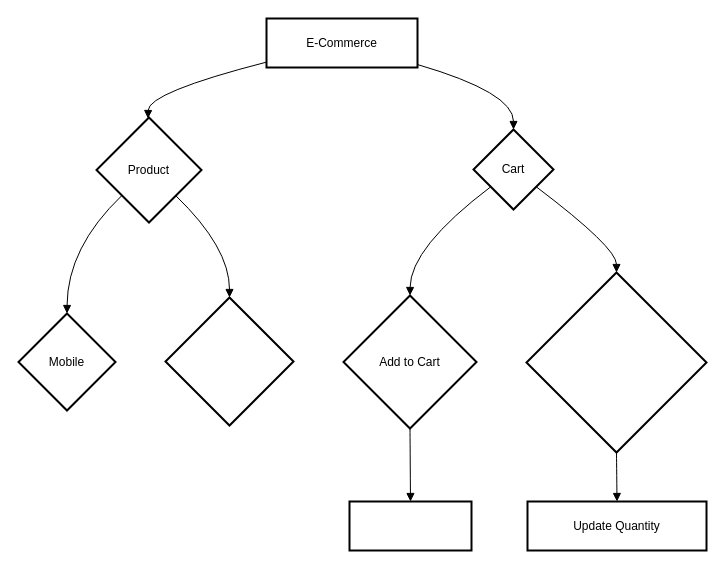
Some shapes in this 724 by 568 pixel diagram are drawn without their labels. Each missing label, with the centre of its shape:
"Electronics" belongs at point (229, 361).
"Payment" belongs at point (410, 525).
"Remove from Cart" belongs at point (616, 362).
